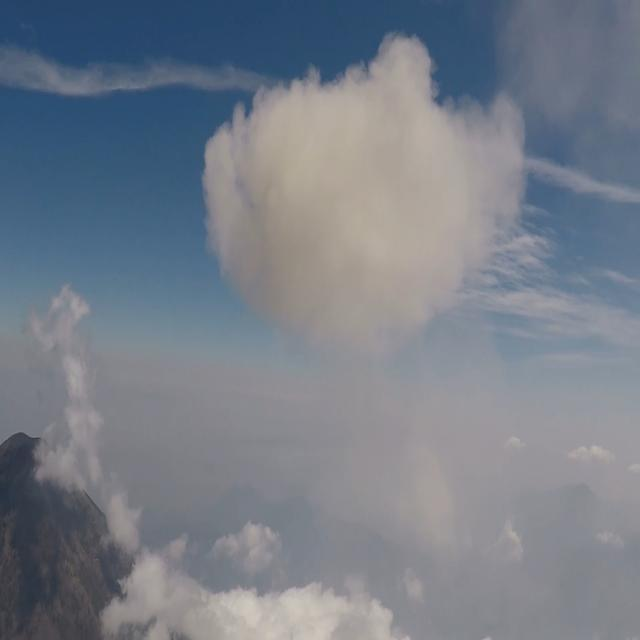Plume: (204, 28, 534, 350)
